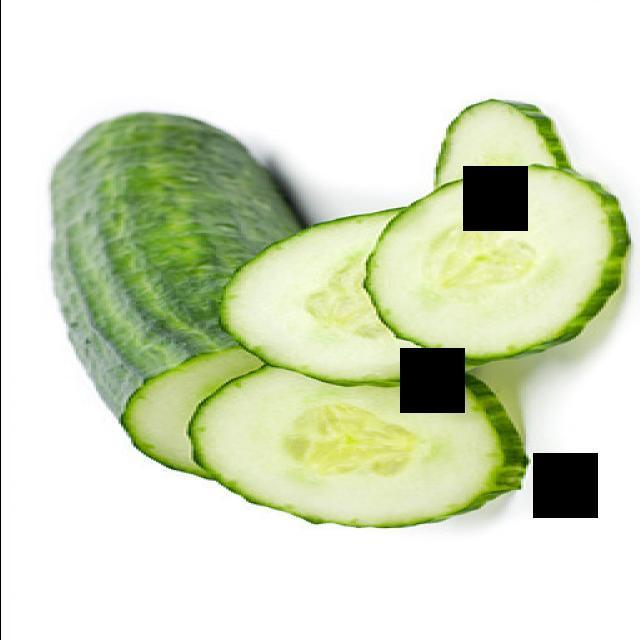cucumber: (20, 82, 640, 558), (213, 191, 553, 385), (180, 364, 532, 542), (370, 165, 614, 364)
